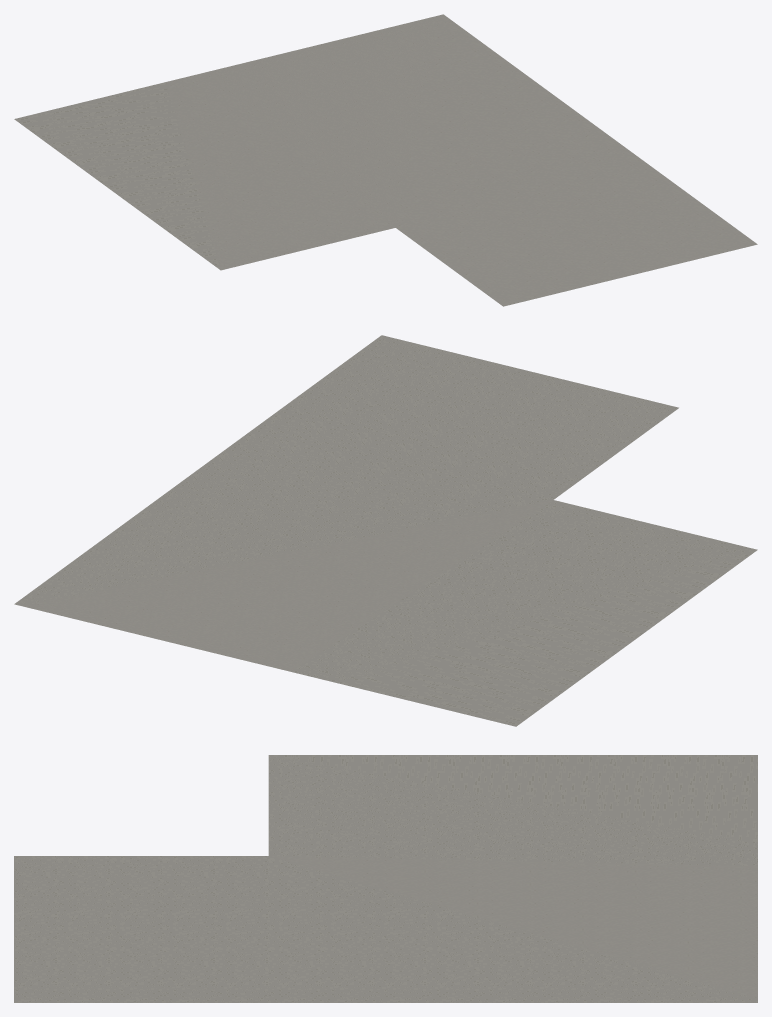
File: kd_stage_135b75_4_19_bounded_piece_3.glb
3 renders of one model, top to bottom at view 1: azimuth 30°, elevation 25°; view 2: azimuth 150°, elevation 25°; view 3: azimuth 270°, elevation 25°, orthographic. The views are drawn at different scales.
Visible parts, largest first — view 1: kd_stage_135b75_4_19_bounded_piece_3; view 2: kd_stage_135b75_4_19_bounded_piece_3; view 3: kd_stage_135b75_4_19_bounded_piece_3.
Boxes of the visible parts, x1,y1,x2,y2 form: kd_stage_135b75_4_19_bounded_piece_3: (14,14,757,306); kd_stage_135b75_4_19_bounded_piece_3: (14,335,757,726); kd_stage_135b75_4_19_bounded_piece_3: (14,755,757,1002).
Bounding box in the file's own units: 3.69 × 2.38e-07 × 4.68.
1 material, 1 textured.
